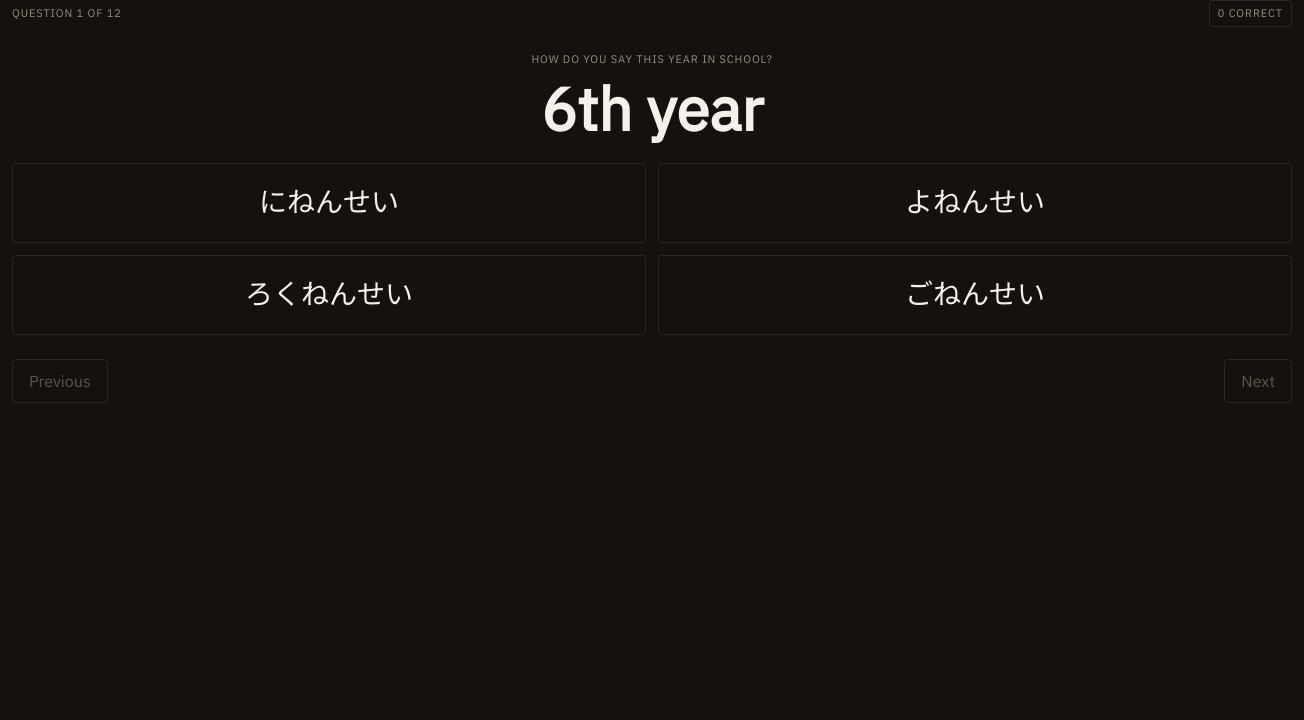
Test: paging back and forth › blocks Next until the question is answered
Check: the button "Next" is disabled, box [1224,359,1292,403]
Click the button "にねんせい".
click(329, 203)  # box [12,163,646,243]
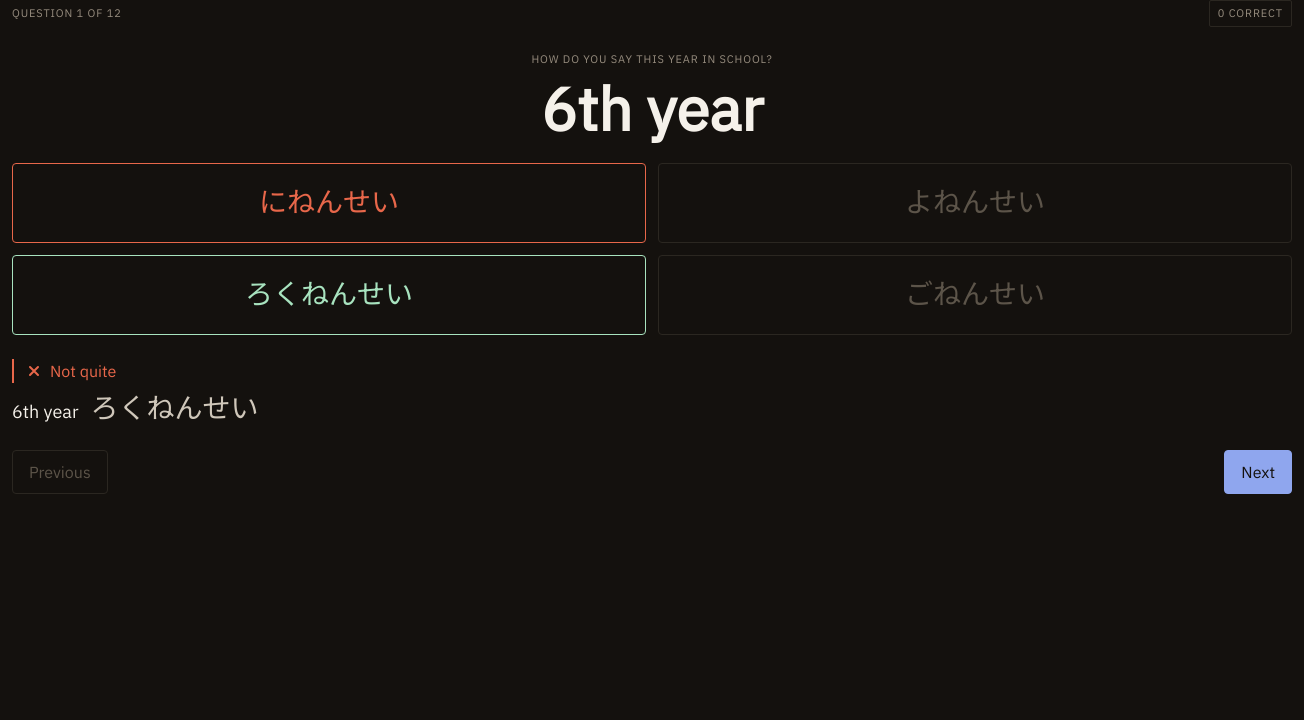
Check: the button "Next" is enabled, box [1224,450,1292,494]
